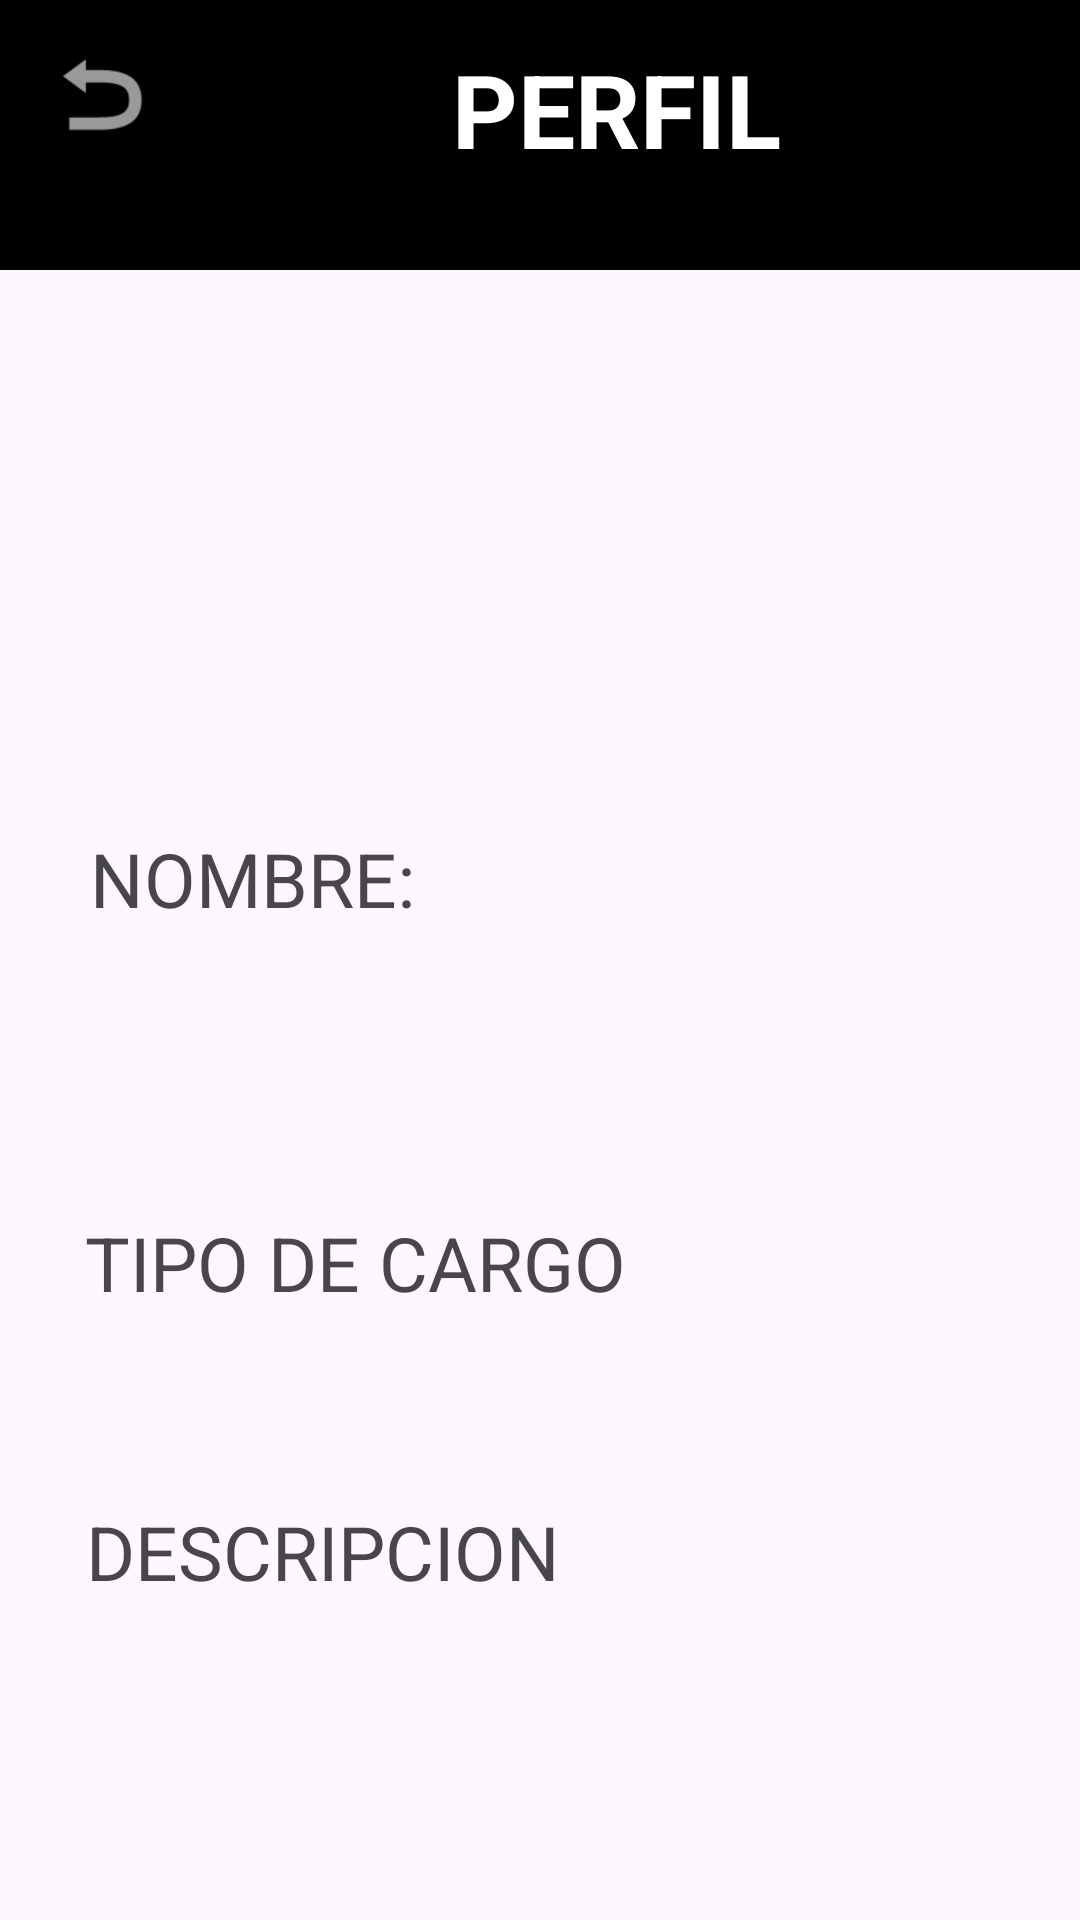

Where icons sit on this 1080x1920 app screen, as rect(x1, y1, x2, y2):
pa tras: rect(63, 59, 142, 131)
